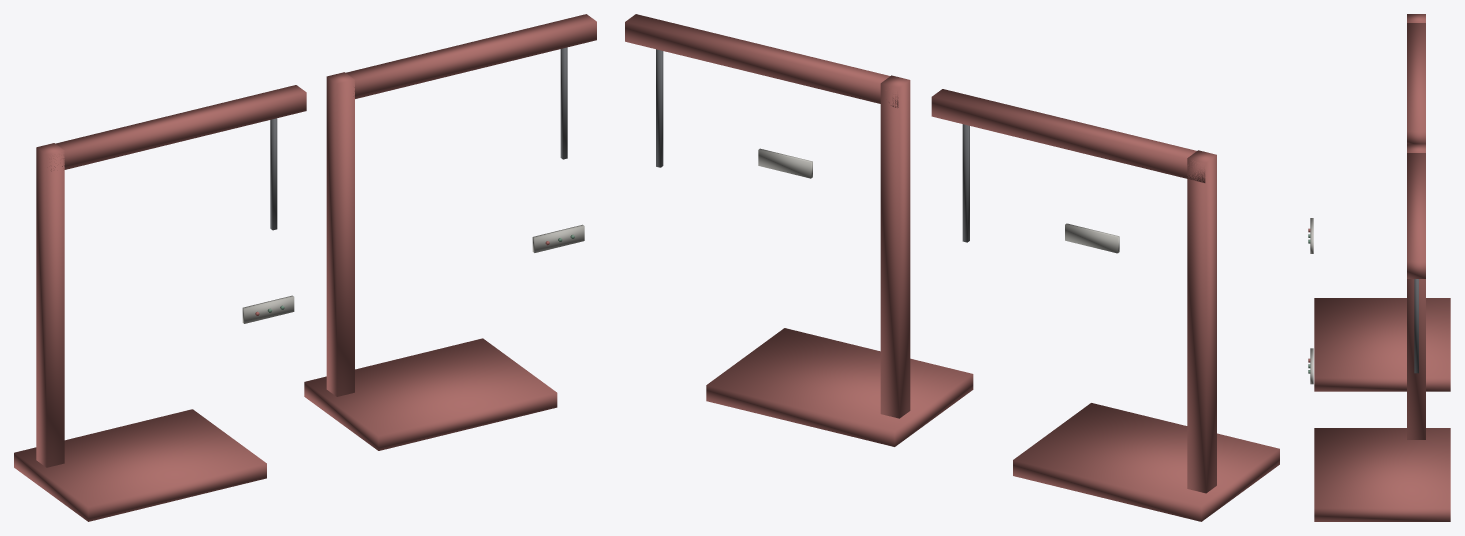
The model's file is chain_hoist__cluster.glb.
3 renders of one model, left to right at view 1: azimuth 30°, elevation 25°; view 2: azimuth 150°, elevation 25°; view 3: azimuth 270°, elevation 25°, orthographic. The views are drawn at different scales.
Parts seen in each view (by area): view 1: world; view 2: world; view 3: world.
Boxes of the visible parts, x1=… form: world: x1=14, y1=14, x2=596, y2=521; world: x1=625, y1=14, x2=1279, y2=521; world: x1=1308, y1=14, x2=1450, y2=521.
Bounding box in the file's own units: 3.13 × 1.75 × 0.751.
